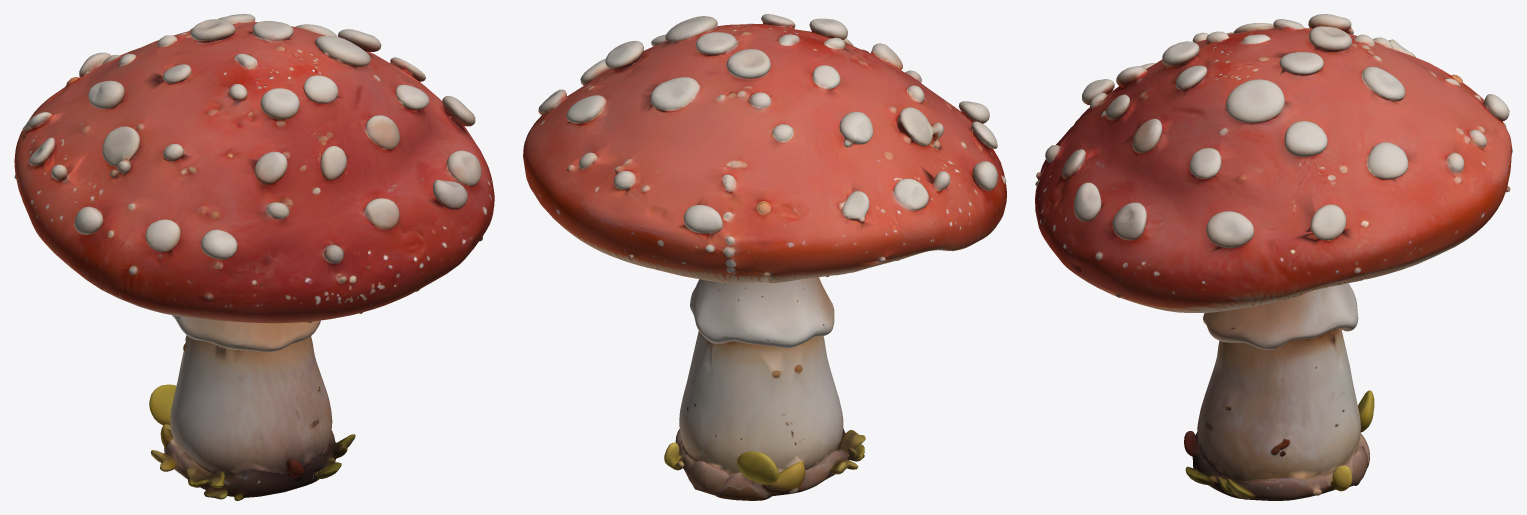
File: nature-mushroom-red.glb
The picture shows the model from 3 angles, left to right: view 1: azimuth 30°, elevation 25°; view 2: azimuth 150°, elevation 25°; view 3: azimuth 270°, elevation 25°; orthographic projection.
Visible parts, largest first — view 1: tripo_node_a05eafe1-ed7f-4cdd-9923-f3bd8604de93; view 2: tripo_node_a05eafe1-ed7f-4cdd-9923-f3bd8604de93; view 3: tripo_node_a05eafe1-ed7f-4cdd-9923-f3bd8604de93.
Part boxes in pixels (x1=…): tripo_node_a05eafe1-ed7f-4cdd-9923-f3bd8604de93: x1=14, y1=14, x2=494, y2=500; tripo_node_a05eafe1-ed7f-4cdd-9923-f3bd8604de93: x1=523, y1=14, x2=1006, y2=500; tripo_node_a05eafe1-ed7f-4cdd-9923-f3bd8604de93: x1=1035, y1=14, x2=1512, y2=500.
Bounding box in the file's own units: 0.3022 × 0.3 × 0.2975.
Materials: 1 (1 with a texture image).
